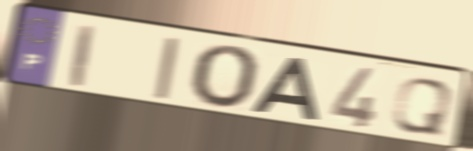4: (327, 65, 379, 130)
A: (248, 55, 320, 122)
I: (152, 35, 183, 102), (69, 21, 98, 90)
O: (189, 43, 263, 113)
Q: (388, 76, 457, 139)
